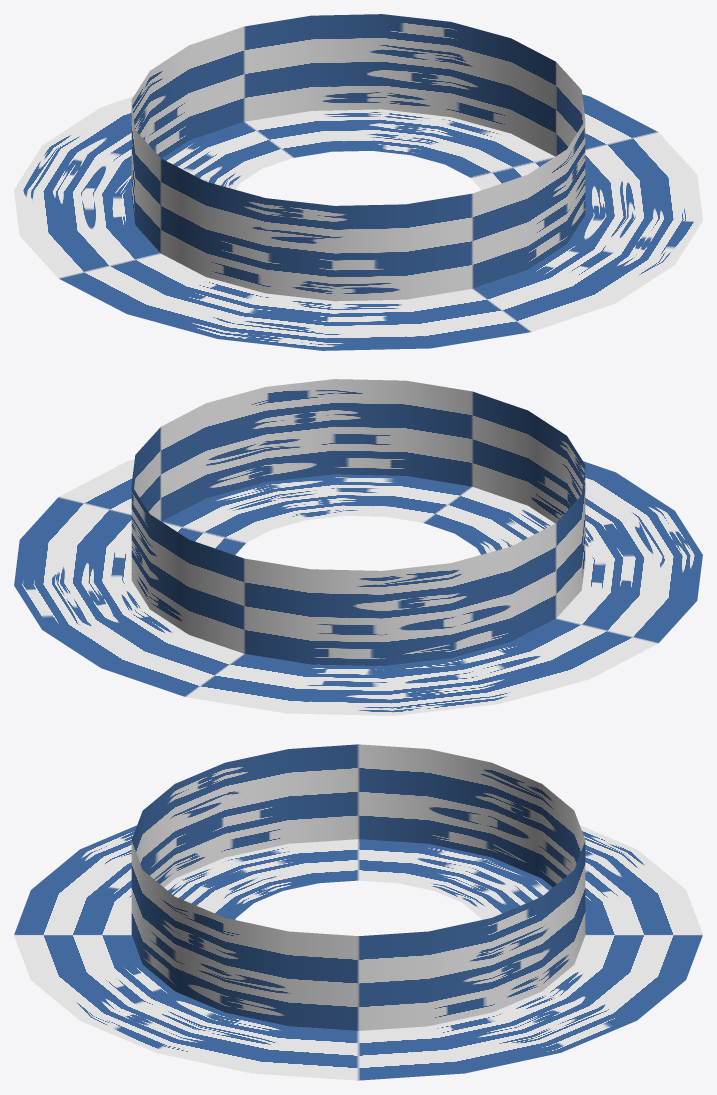
The model's file is Rui_Ring1.fbx.
The picture shows the model from 3 angles, top to bottom: view 1: azimuth 30°, elevation 25°; view 2: azimuth 150°, elevation 25°; view 3: azimuth 270°, elevation 25°; orthographic projection.
Visible parts, largest first — view 1: SM_e_Plc_P1007_Ring001; view 2: SM_e_Plc_P1007_Ring001; view 3: SM_e_Plc_P1007_Ring001.
Boxes of the visible parts, x1,y1,x2,y2 form: SM_e_Plc_P1007_Ring001: (14,14,702,350); SM_e_Plc_P1007_Ring001: (14,379,702,715); SM_e_Plc_P1007_Ring001: (14,744,702,1080).
Size of the model in its own units: 34.2 by 5.19 by 34.2.
